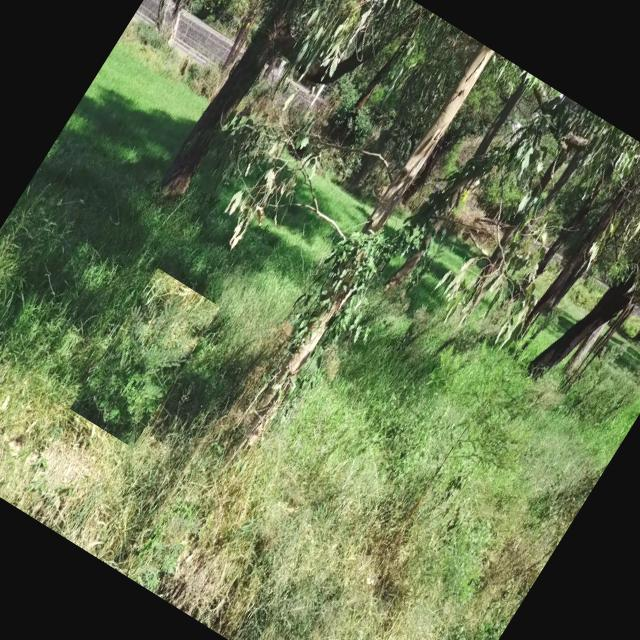Mysore-Thorn-Weed: (70, 268, 220, 448)
